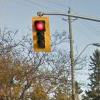Traffic light: (27, 12, 55, 65)
